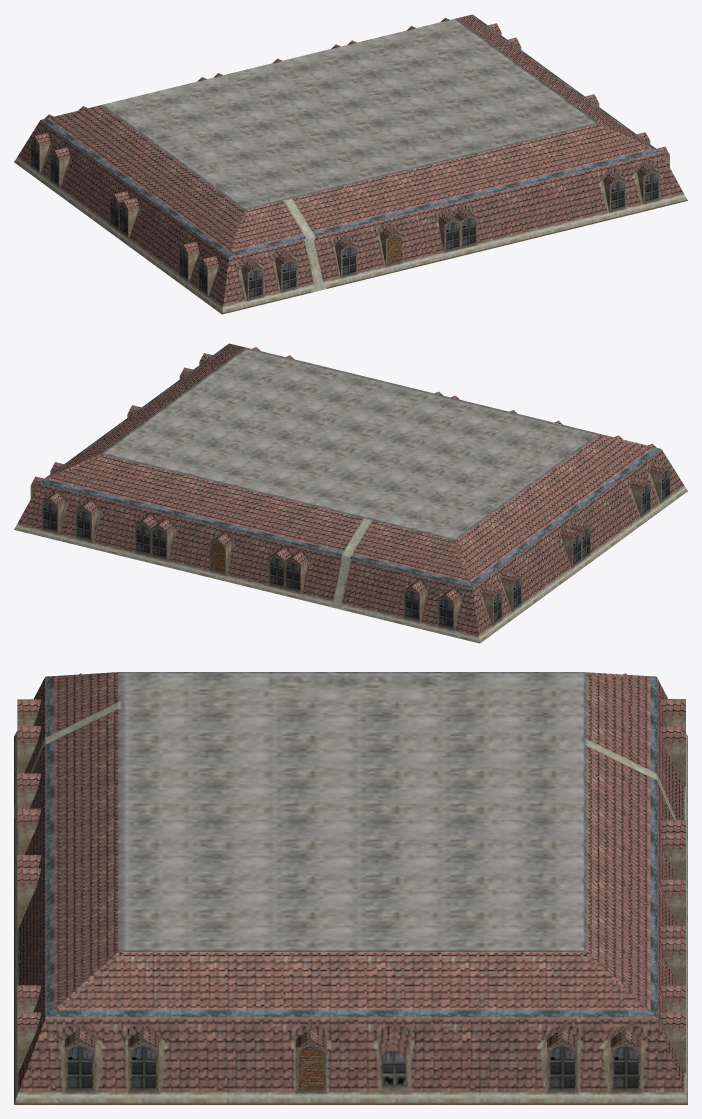
The model's file is Build7_el_LOD3.fbx.
3 views of the same model, one above another, from view 1: azimuth 30°, elevation 25°; view 2: azimuth 150°, elevation 25°; view 3: azimuth 270°, elevation 25° (orthographic). The views are drawn at different scales.
Visible parts, largest first — view 1: polySurface388; view 2: polySurface388; view 3: polySurface388.
Part boxes in pixels (x1,y1,x2,y2): polySurface388: (14,14,687,314); polySurface388: (14,343,687,643); polySurface388: (14,672,687,1104).
Size of the model in its own units: 16.68 by 2.3 by 12.9.
